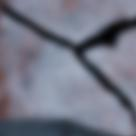brick: (0, 12, 134, 135), (0, 0, 135, 42), (85, 29, 135, 107)
crack: (0, 2, 135, 135), (100, 130, 119, 135)
